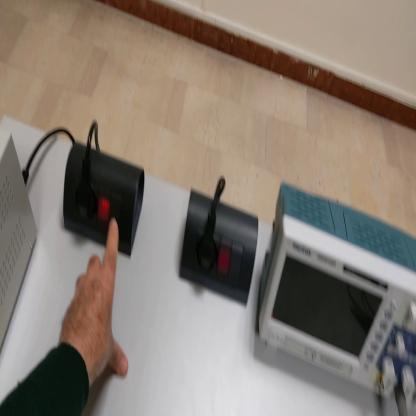hand: (58, 214, 130, 387)
oscilloscope: (255, 183, 416, 403)
power supply: (1, 122, 39, 354)
socket: (180, 188, 261, 309), (63, 137, 145, 252)
